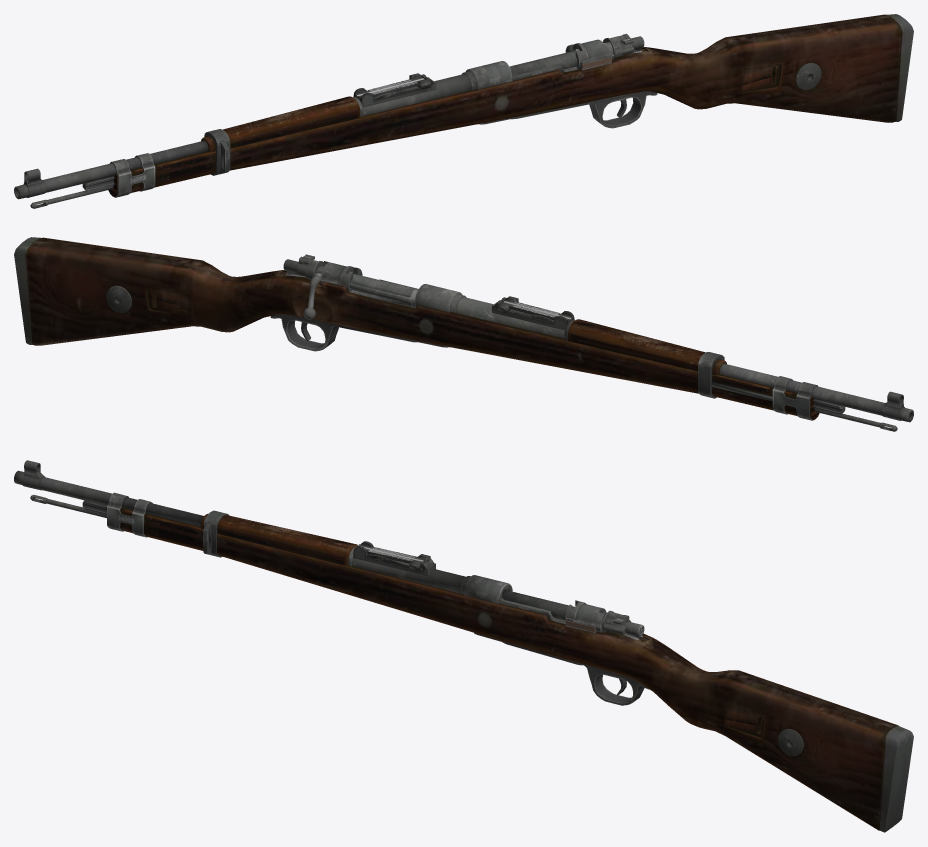
File: kar98.glb
3 views of the same model, one above another, from view 1: azimuth 30°, elevation 25°; view 2: azimuth 150°, elevation 25°; view 3: azimuth 330°, elevation 25° (orthographic).
Parts seen in each view (by area): view 1: b_low, a_low, d_low, c_low, e_low; view 2: b_low, a_low, d_low, c_low, e_low; view 3: b_low, a_low, d_low, c_low, e_low.
Boxes of the visible parts, x1=… form: b_low: x1=108, y1=14, x2=913, y2=196; a_low: x1=14, y1=91, x2=657, y2=208; d_low: x1=353, y1=39, x2=642, y2=116; c_low: x1=509, y1=33, x2=644, y2=75; e_low: x1=353, y1=73, x2=436, y2=107; b_low: x1=14, y1=237, x2=819, y2=419; a_low: x1=270, y1=314, x2=913, y2=431; d_low: x1=285, y1=261, x2=574, y2=339; c_low: x1=283, y1=254, x2=418, y2=319; e_low: x1=492, y1=296, x2=574, y2=330; b_low: x1=120, y1=507, x2=913, y2=832; a_low: x1=14, y1=460, x2=649, y2=705; d_low: x1=348, y1=546, x2=642, y2=639; c_low: x1=502, y1=590, x2=644, y2=637; e_low: x1=353, y1=541, x2=435, y2=575.
Size of what is drawn, in the model's own units: 2 by 0.341 by 0.1091.
Materials: 5 (5 with a texture image).
